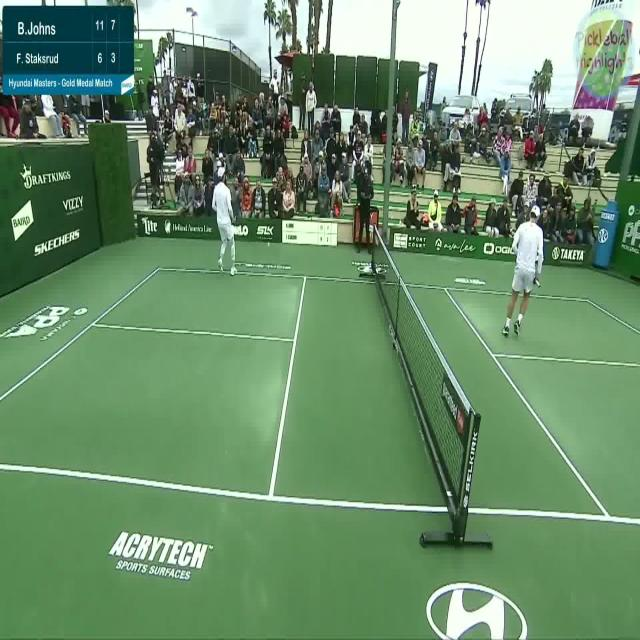ball: (266, 239, 271, 250)
